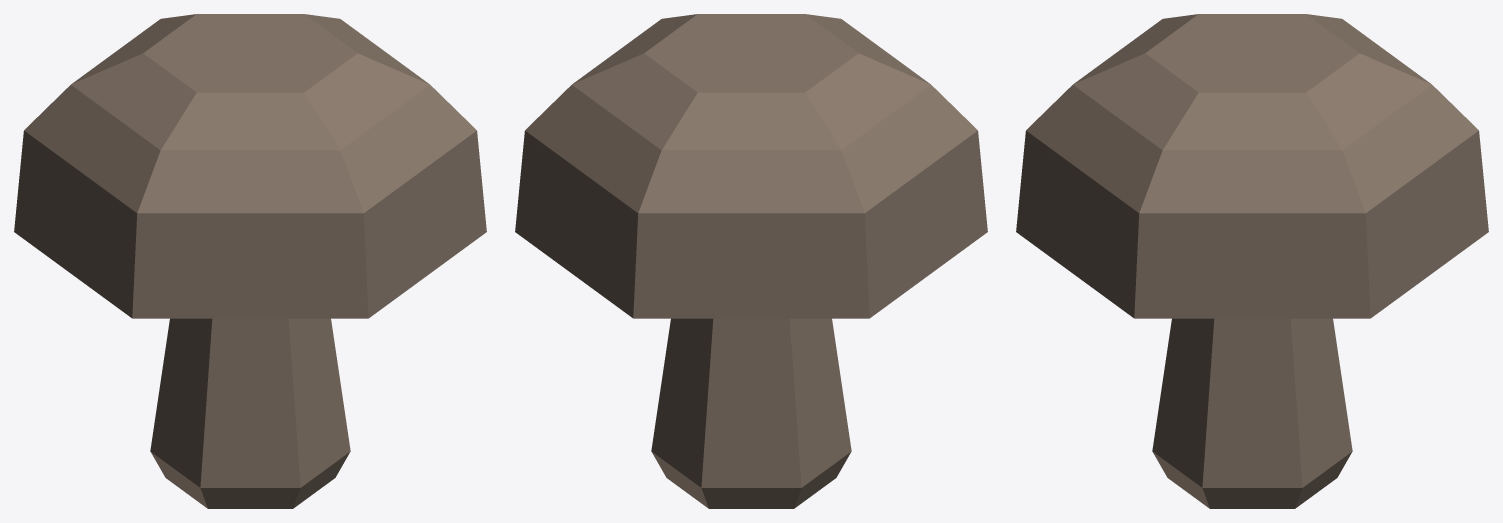
The model's file is Mushroom.glb.
The picture shows the model from 3 angles, left to right: view 1: azimuth 30°, elevation 25°; view 2: azimuth 150°, elevation 25°; view 3: azimuth 270°, elevation 25°; orthographic projection.
Parts seen in each view (by area): view 1: Mushroom; view 2: Mushroom; view 3: Mushroom.
Boxes of the visible parts, bbox=[...] form: Mushroom: bbox=[14, 14, 486, 508]; Mushroom: bbox=[515, 14, 987, 508]; Mushroom: bbox=[1016, 14, 1488, 508].
Size of the model in its own units: 0.0394 by 0.0451 by 0.0455.
